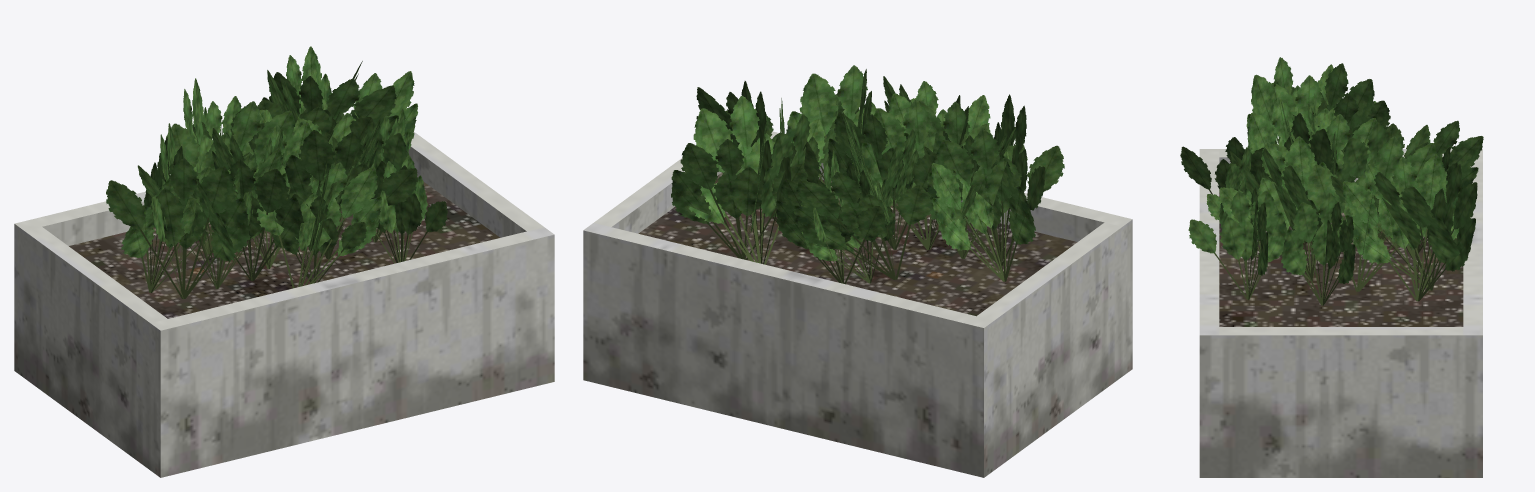
File: foam-box-herb-planter.fbx
3 views of the same model, side by side, from view 1: azimuth 30°, elevation 25°; view 2: azimuth 150°, elevation 25°; view 3: azimuth 270°, elevation 25° (orthographic). The views are drawn at different scales.
Parts seen in each view (by area): view 1: foam_greens; view 2: foam_greens; view 3: foam_greens.
Part boxes in pixels (left/top/right/bottom): foam_greens: left=14, top=46, right=554, bottom=477; foam_greens: left=583, top=65, right=1132, bottom=477; foam_greens: left=1180, top=57, right=1483, bottom=477.
Size of the model in its own units: 57.65 by 38.82 by 45.67.
Materials: 2 (2 with a texture image).
